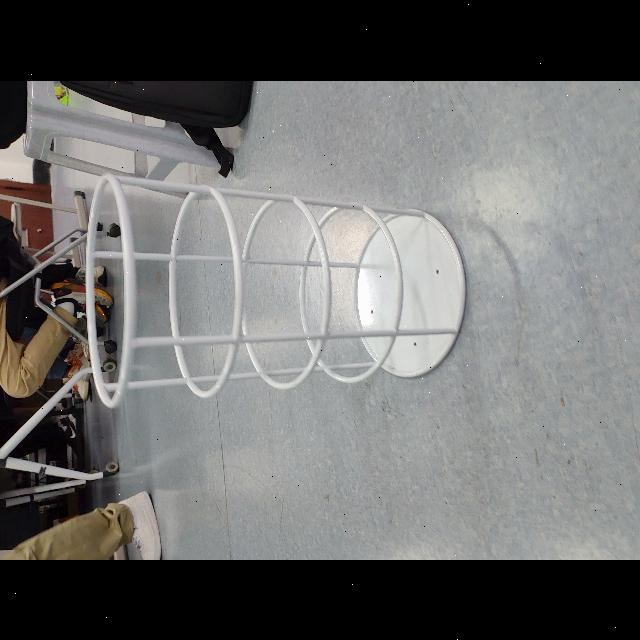S: (82, 170, 470, 408)
